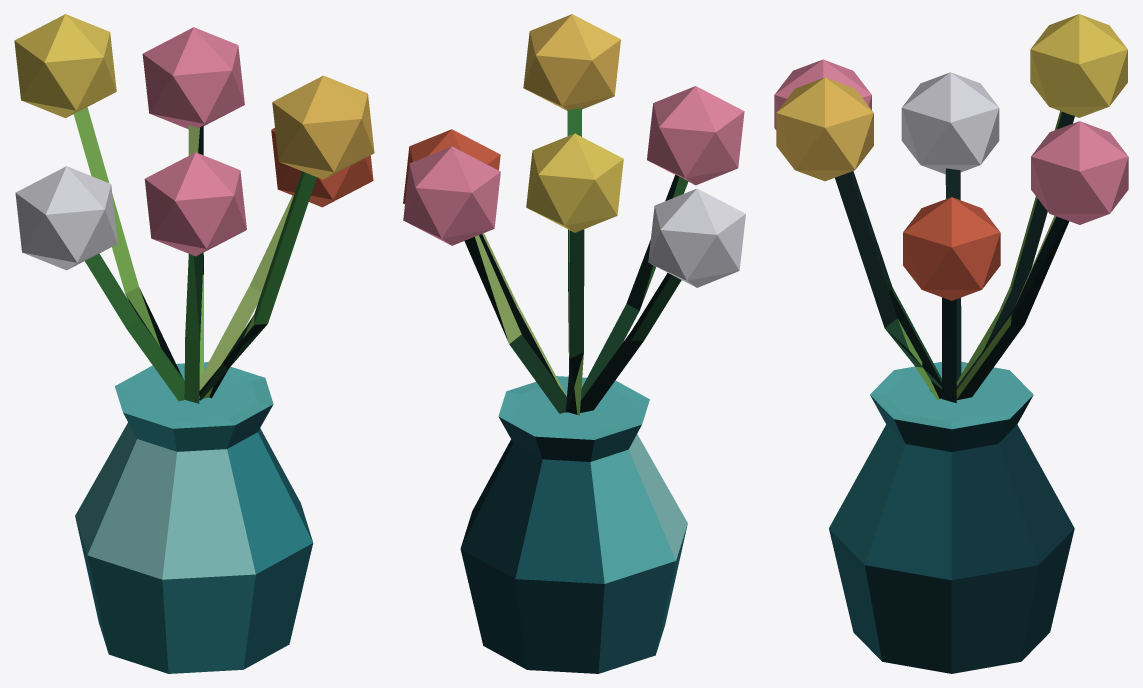
File: flower_vase.glb
The picture shows the model from 3 angles, left to right: view 1: azimuth 30°, elevation 25°; view 2: azimuth 150°, elevation 25°; view 3: azimuth 270°, elevation 25°; orthographic projection. The views are drawn at different scales.
Parts seen in each view (by area): view 1: flower_vase; view 2: flower_vase; view 3: flower_vase.
Boxes of the visible parts, x1,y1,x2,y2 form: flower_vase: (14, 14, 374, 673); flower_vase: (403, 14, 745, 673); flower_vase: (774, 14, 1128, 673).
Size of the model in its own units: 0.2426 by 0.395 by 0.2161.
